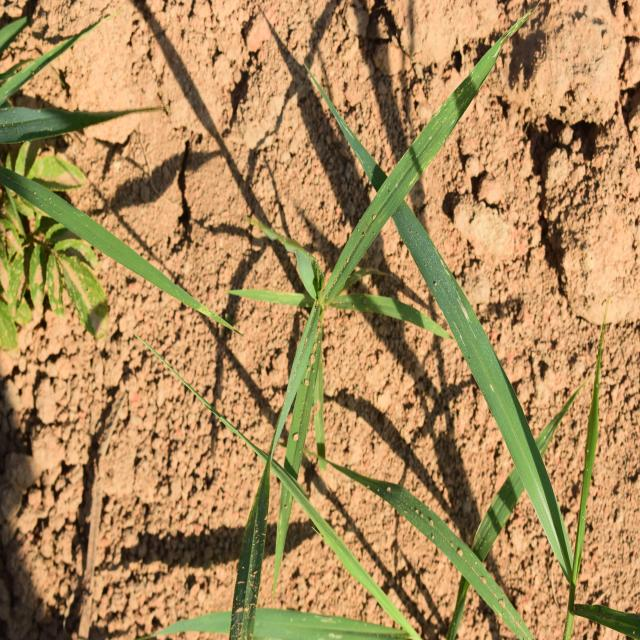green_foxtail: (243, 93, 474, 504), (408, 238, 600, 616)
